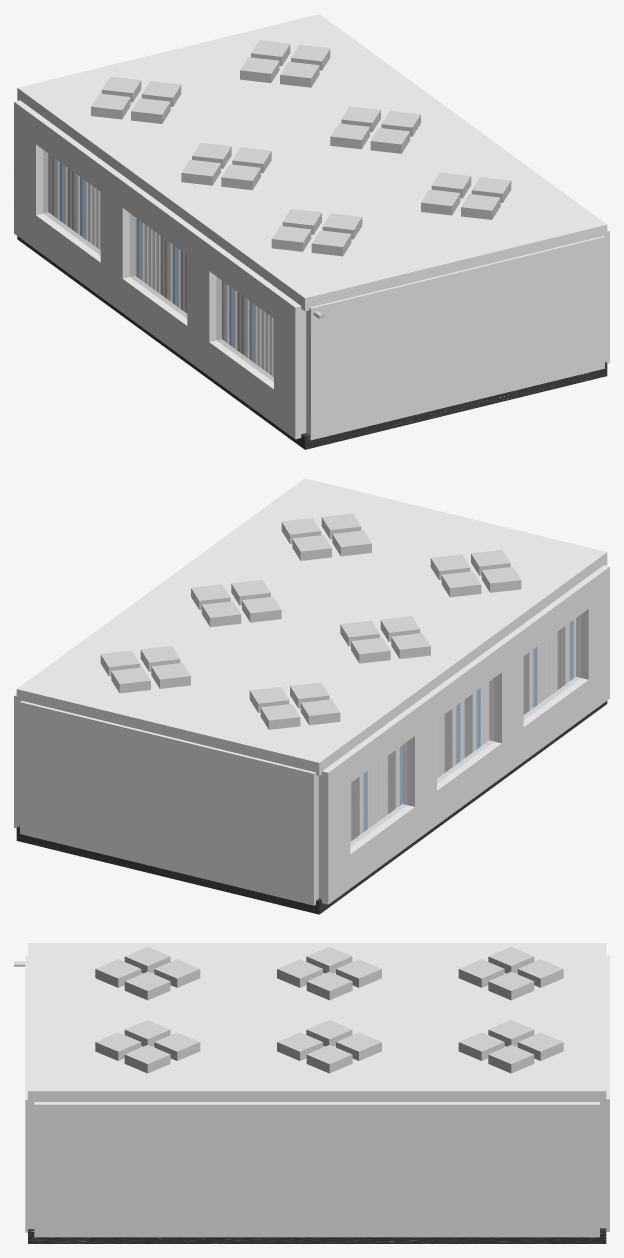
The model's file is офис 4.fbx.
The picture shows the model from 3 angles, top to bottom: view 1: azimuth 30°, elevation 25°; view 2: azimuth 150°, elevation 25°; view 3: azimuth 270°, elevation 25°; orthographic projection.
Visible parts, largest first — view 1: Cube.005, Cube, Cube.001, Cube.004, Куб.387, Куб.385, Куб.386, Куб.358, Куб.360, Куб.344, Куб.376, Куб.352 (+20 smaller); view 2: Cube.005, Cube.002, Cube.001, Cube.004, Куб.385, Куб.387, Куб.386, Куб.344, Куб.372, Куб.356, Куб.340, Куб.360 (+20 smaller); view 3: Cube.003, Cube.005, Cube.004, Cube.002, Cube, Куб.362, Куб.354, Куб.378, Куб.338, Куб.346, Куб.370, Куб.342 (+17 smaller).
Boxes of the visible parts, <box> form: Cube.005: <box>17,14,607,311</box>; Cube: <box>306,236,604,440</box>; Cube.001: <box>14,100,306,439</box>; Cube.004: <box>17,236,607,449</box>; Куб.387: <box>43,150,100,255</box>; Куб.385: <box>216,277,273,381</box>; Куб.386: <box>130,214,186,317</box>; Куб.358: <box>311,230,351,256</box>; Куб.360: <box>271,226,311,251</box>; Куб.344: <box>91,93,130,119</box>; Куб.376: <box>330,123,369,149</box>; Куб.352: <box>181,159,220,185</box>; Cube.005: <box>16,478,607,775</box>; Cube.002: <box>20,701,318,905</box>; Cube.001: <box>318,565,609,904</box>; Cube.004: <box>16,701,607,914</box>; Куб.385: <box>524,614,581,719</box>; Куб.387: <box>350,742,407,846</box>; Куб.386: <box>437,678,494,783</box>; Куб.344: <box>300,699,340,725</box>; Куб.372: <box>201,601,241,627</box>; Куб.356: <box>441,571,481,597</box>; Куб.340: <box>260,704,300,729</box>; Куб.360: <box>481,567,521,592</box>; Cube.003: <box>34,1102,599,1237</box>; Cube.005: <box>28,943,606,1104</box>; Cube.004: <box>28,1228,606,1243</box>; Cube.002: <box>600,955,609,1231</box>; Cube: <box>25,956,34,1232</box>; Куб.362: <box>124,1045,170,1073</box>; Куб.354: <box>124,971,170,1000</box>; Куб.378: <box>488,1045,534,1073</box>; Куб.338: <box>488,971,534,1000</box>; Куб.346: <box>306,971,352,1000</box>; Куб.370: <box>306,1045,352,1073</box>; Куб.342: <box>458,959,504,987</box>.
Size of the model in its own units: 1497 by 732 by 2446.
